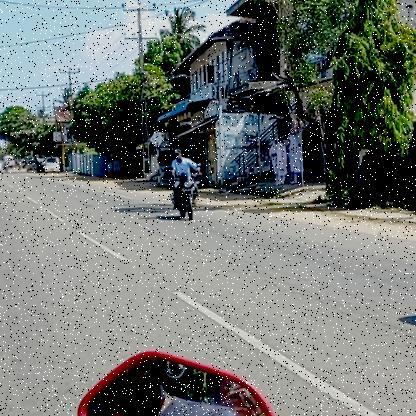motorcycle: (169, 170, 203, 221)
